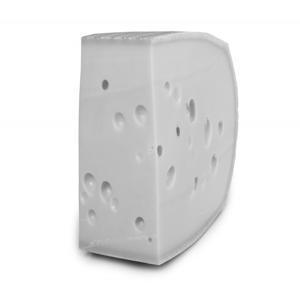cheese: (64, 25, 245, 264)
